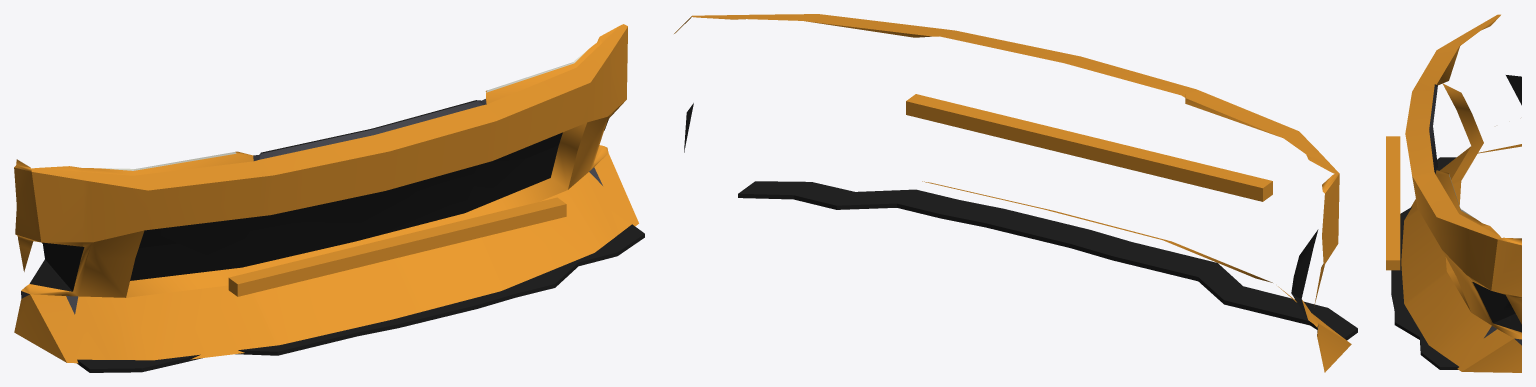
Rendered from protoCompact_frontBumper_hayate.glb.
The picture shows the model from 3 angles, left to right: view 1: azimuth 30°, elevation 25°; view 2: azimuth 150°, elevation 25°; view 3: azimuth 270°, elevation 25°; orthographic projection. The views are drawn at different scales.
Parts seen in each view (by area): view 1: frontBumper_hayate; view 2: frontBumper_hayate; view 3: frontBumper_hayate.
Boxes of the visible parts, box(x1,y1,x2,y2) form: frontBumper_hayate: box(14, 24, 644, 372); frontBumper_hayate: box(674, 14, 1357, 372); frontBumper_hayate: box(1386, 14, 1521, 372).
Bounding box in the file's own units: 1.59 × 0.4554 × 0.4033.
